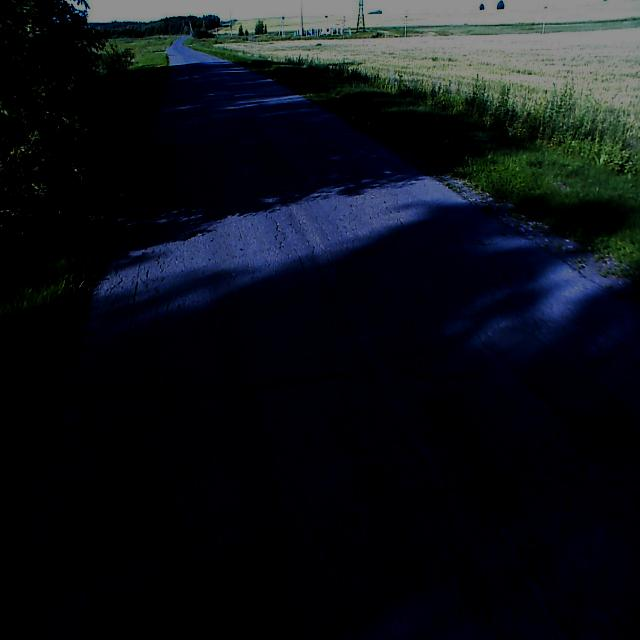road: (0, 38, 640, 639)
